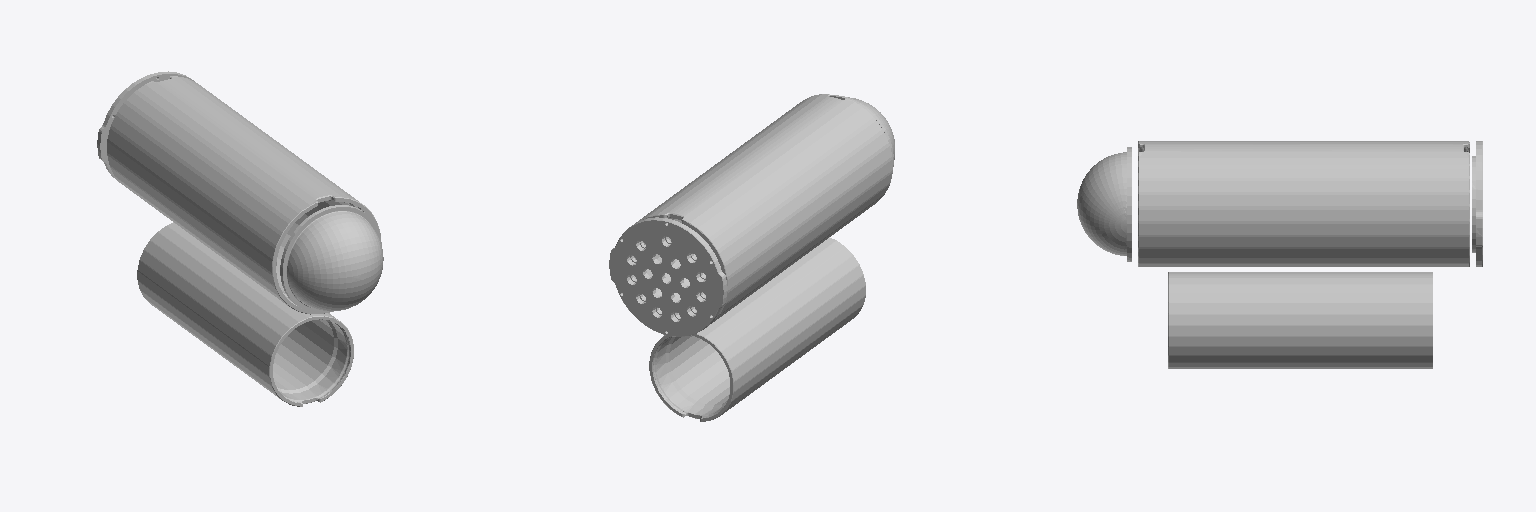
Rendered from bluerov_white.obj.
3 views of the same model, side by side, from view 1: azimuth 30°, elevation 25°; view 2: azimuth 150°, elevation 25°; view 3: azimuth 270°, elevation 25° (orthographic).
Visible parts, largest first — view 1: blueROV_white; view 2: blueROV_white; view 3: blueROV_white.
Boxes of the visible parts, x1,y1,x2,y2 form: blueROV_white: [97, 71, 383, 406]; blueROV_white: [609, 94, 894, 421]; blueROV_white: [1077, 141, 1482, 368].
Bounding box in the file's own units: 0.1203 × 0.2177 × 0.3673.